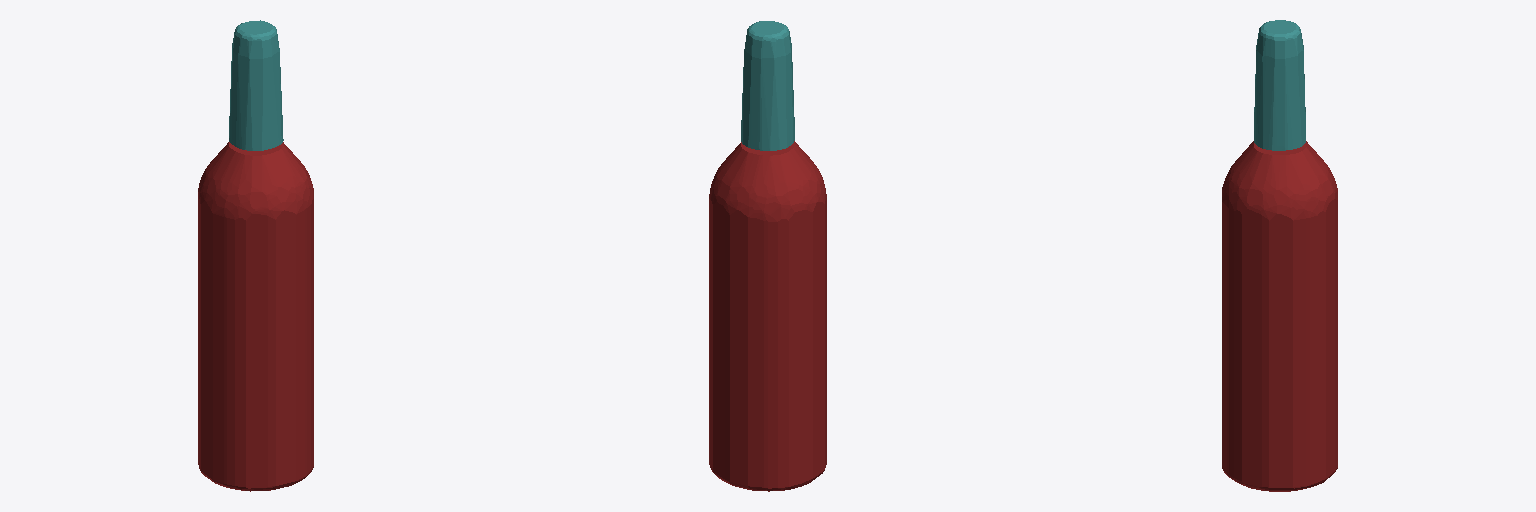
URDF robot description (root):
<robot name="root">
  <link name="bottle_body">
    <inertial>
      <origin xyz="0 0 0" rpy="0 0 0"/>
    </inertial>
    <mass value="1.00E-02"/>
    <visual>
      <origin xyz="0 0 0" rpy="0 0 0"/>
      <geometry>
        <mesh filename="core-bottle-24feb92770933b1663995fb119e59971-coacd_convex_piece_1.obj" scale="1.0000E-01 1.0000E-01 1.0000E-01"/>
      </geometry>
      <material name="">
        <color rgba="6.00E-01 2.00E-01 2.00E-01 1"/>
      </material>
    </visual>
    <collision>
      <origin xyz="0 0 0" rpy="0 0 0"/>
      <geometry>
        <mesh filename="core-bottle-24feb92770933b1663995fb119e59971-coacd_convex_piece_1.obj" scale="1.0000E-01 1.0000E-01 1.0000E-01"/>
      </geometry>
    </collision>
  </link>
  <link name="bottle_cap">
    <origin xyz="0 0 0.002" rpy="0 0 0"/>
    <mass value="1.00E-02"/>
    <visual>
      <origin xyz="0 0 0.002" rpy="0 0 0"/>
      <geometry>
        <mesh filename="core-bottle-24feb92770933b1663995fb119e59971-coacd_convex_piece_0.obj" scale="1.0000E-01 1.0000E-01 1.0000E-01"/>
      </geometry>
      <material name="">
        <color rgba="3.00E-01 6.00E-01 6.00E-01 1"/>
      </material>
    </visual>
    <collision>
      <origin xyz="0 0 0.002" rpy="0 0 0"/>
      <geometry>
        <mesh filename="core-bottle-24feb92770933b1663995fb119e59971-coacd_convex_piece_0.obj" scale="1.0000E-01 1.0000E-01 1.0000E-01"/>
      </geometry>
    </collision>
  </link>
  <joint name="bottle_cap_joint" type="revolute">
    <origin xyz="0 0 0" rpy="0 0 0"/>
    <parent link="bottle_body"/>
    <child link="bottle_cap"/>
    <axis xyz="0 0 1"/>
    <limit lower="0.00" upper="6.28"/>
    <dynamics damping="0.05"/>
  </joint>
</robot>

--- Render facts (derived) ---
Views: 3 orthographic renders of the robot side by side, from view 1: azimuth 30°, elevation 25°; view 2: azimuth 150°, elevation 25°; view 3: azimuth 270°, elevation 25°.
Model root with 2 links and 1 joints (1 revolute), rooted at bottle_body, posed every joint at zero.
Links seen in each view (by area): view 1: bottle_body, bottle_cap; view 2: bottle_body, bottle_cap; view 3: bottle_body, bottle_cap.
Boxes of the visible links, left/top/right/bottom form: bottle_body: left=198, top=142, right=313, bottom=491; bottle_cap: left=229, top=20, right=283, bottom=150; bottle_body: left=709, top=141, right=826, bottom=491; bottle_cap: left=741, top=21, right=794, bottom=150; bottle_body: left=1222, top=141, right=1337, bottom=491; bottle_cap: left=1254, top=20, right=1305, bottom=150.
Bounding box of the posed robot: 0.0459 × 0.0459 × 0.1938 m (x, y, z).
Meshes: 2 distinct files referenced, 2 mesh visuals loaded (2 OBJ).